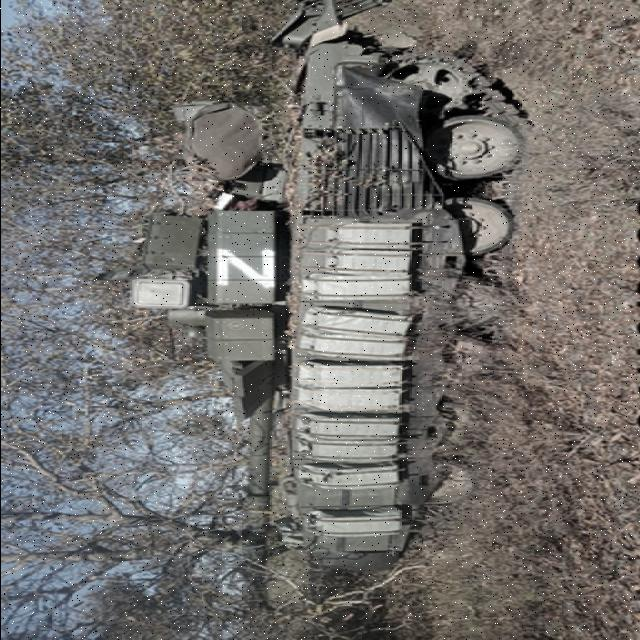TANK: (128, 12, 524, 640)
